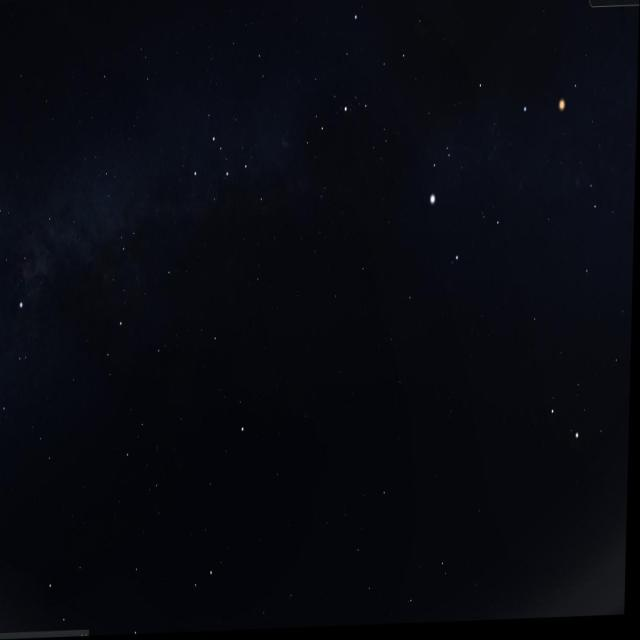cassiopeia: (188, 118, 286, 203)
